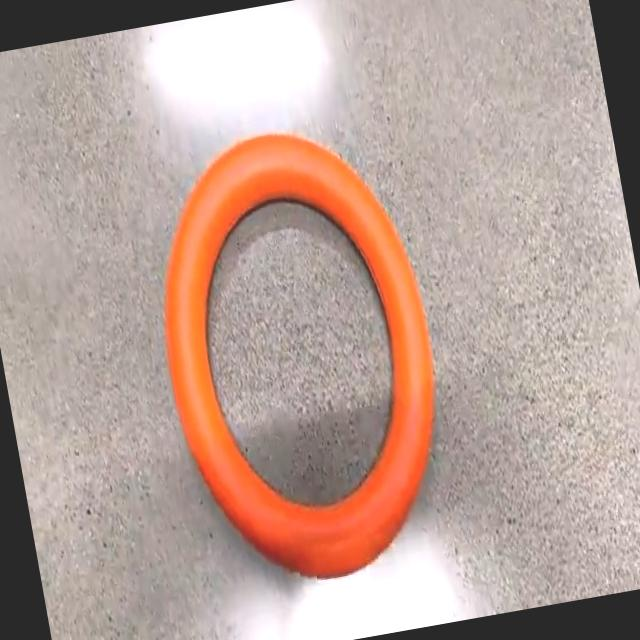note: (165, 134, 433, 577)
